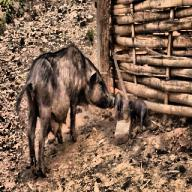boar: (15, 42, 115, 178)
